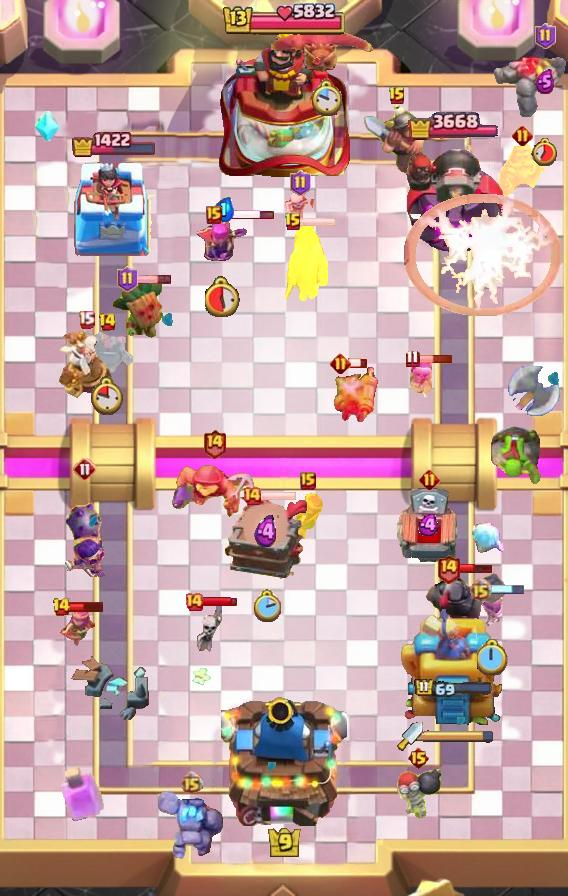bandit: (363, 100, 431, 176)
bar: (401, 601, 505, 731)
bar-level: (490, 425, 544, 487)
barbarian-evolution: (403, 194, 562, 316)
bat: (470, 520, 506, 554)
battle-ram: (76, 328, 138, 376)
cannon: (51, 605, 97, 651), (290, 493, 326, 543)
clock: (221, 0, 347, 40)
dart-goblin: (224, 497, 309, 579)
electro-spirit: (254, 515, 279, 549), (213, 197, 234, 223), (418, 514, 441, 536), (535, 70, 555, 95)
elixir: (205, 275, 241, 316), (91, 376, 125, 415), (310, 78, 342, 118), (477, 639, 507, 675), (252, 589, 280, 622), (531, 138, 559, 167)
elixir-collector: (57, 329, 115, 399)
elixir-golem-mid: (394, 487, 464, 573)
emote: (221, 207, 276, 220), (67, 599, 104, 612), (299, 216, 336, 228), (136, 274, 173, 286), (260, 490, 297, 502), (489, 584, 525, 596), (202, 596, 238, 608), (458, 563, 494, 574), (419, 354, 454, 364), (348, 357, 368, 369)
evolution-symbol: (194, 213, 252, 271)
fireball: (170, 462, 258, 524)
firecracker-evolution: (499, 141, 545, 199)
goblin: (409, 356, 433, 400), (478, 589, 505, 627)
goblin-ball: (61, 486, 109, 582)
goblin-barrel: (111, 277, 167, 341)
goblin-hut: (283, 221, 328, 304)
heal-spirit: (195, 600, 223, 652), (283, 189, 317, 225)
ice-golem: (392, 765, 444, 819)
king-tower: (218, 27, 350, 181), (221, 690, 347, 826)
king-tower-bar: (423, 729, 495, 743)
knight-evolution: (61, 766, 105, 823)
mother-witch: (271, 0, 381, 78)
pad_2: (35, 111, 61, 143)
queen-tower: (69, 158, 159, 256)
royal-giant: (500, 366, 560, 426)
royal-guardian: (417, 567, 509, 649)
selected: (408, 109, 498, 143), (70, 130, 157, 157), (414, 677, 494, 699)
text: (202, 429, 227, 460), (435, 553, 460, 584), (73, 457, 97, 481), (289, 170, 311, 196), (468, 578, 491, 602), (406, 746, 429, 770), (180, 770, 203, 794), (536, 23, 557, 49), (117, 266, 138, 292), (330, 353, 351, 375), (511, 126, 532, 147), (419, 469, 440, 490), (242, 486, 262, 506), (184, 592, 204, 612), (52, 597, 72, 617), (99, 312, 118, 332), (388, 86, 406, 106), (284, 212, 302, 232), (77, 311, 94, 329), (206, 206, 222, 224), (300, 472, 316, 490), (405, 349, 419, 368)
tombstone: (332, 365, 378, 427)
tower-bar: (401, 138, 505, 256)
valkyrie-evolution: (492, 52, 568, 120), (158, 788, 224, 860)
